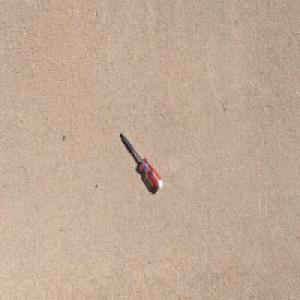Screwdriver: (119, 129, 163, 191)
